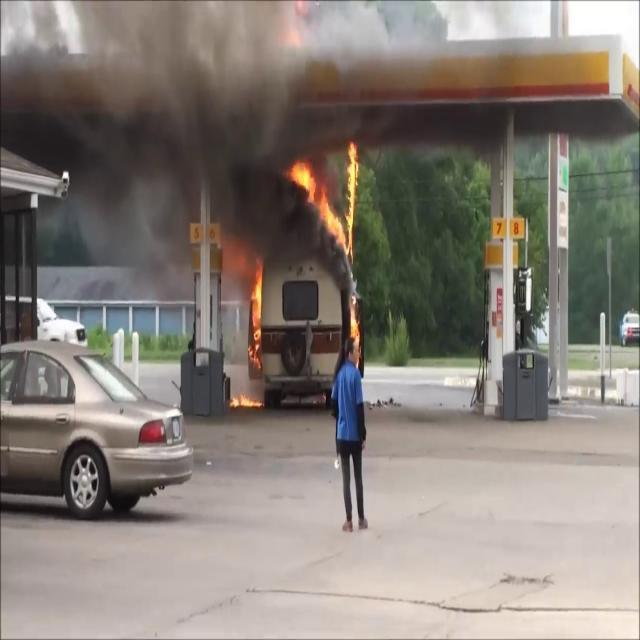Fire: (292, 137, 364, 264), (248, 262, 266, 364), (346, 279, 364, 361), (230, 385, 263, 413)
Smoke: (0, 1, 323, 282)
